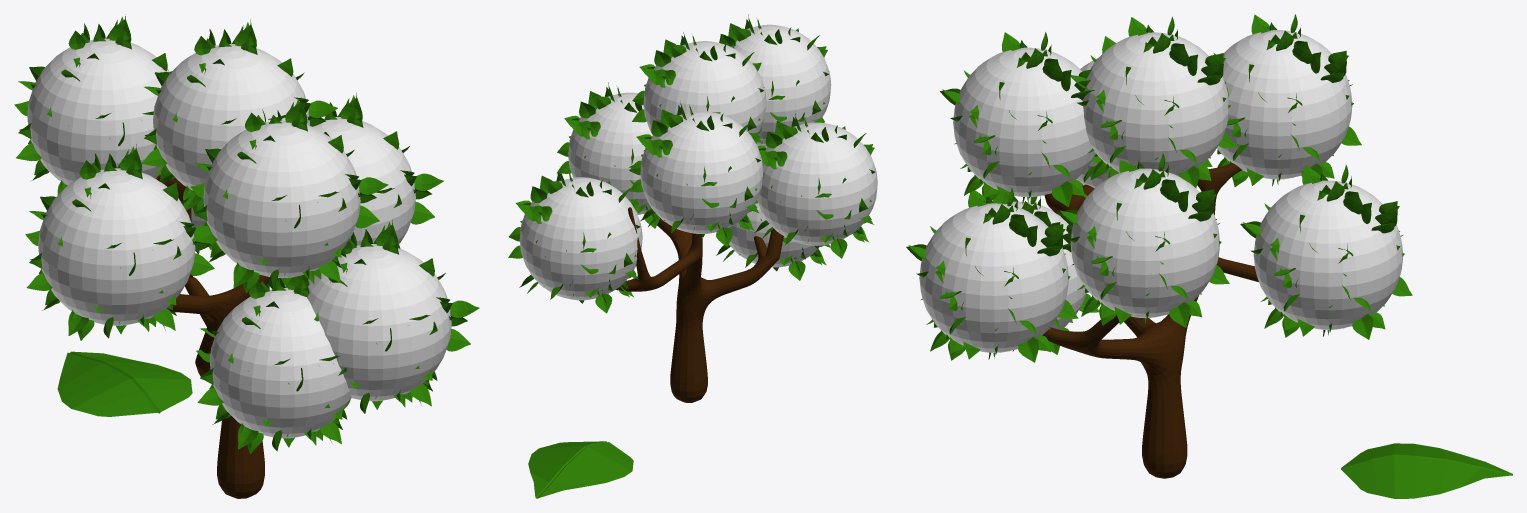
Rendered from tree.fbx.
3 views of the same model, side by side, from view 1: azimuth 30°, elevation 25°; view 2: azimuth 150°, elevation 25°; view 3: azimuth 270°, elevation 25° (orthographic). The views are drawn at different scales.
Parts seen in each view (by area): view 1: Sphere.001, Sphere.006, Sphere.003, Sphere.007, Sphere.002, Sphere.005, Plane.002, Plane, Sphere.004; view 2: Sphere.002, Sphere, Sphere.001, Plane, Sphere.005, Sphere.006, Sphere.004, Plane.002, Sphere.007; view 3: Sphere.003, Sphere.004, Sphere, Sphere.006, Sphere.005, Sphere.002, Plane, Plane.002, Sphere.007.
Part boxes in pixels (left/top/right/bottom): Sphere.001: left=38, top=168, right=195, bottom=325; Sphere.006: left=203, top=120, right=360, bottom=277; Sphere.003: left=307, top=244, right=451, bottom=401; Sphere.007: left=209, top=288, right=351, bottom=438; Sphere.002: left=27, top=38, right=169, bottom=185; Sphere.005: left=153, top=44, right=309, bottom=190; Plane.002: left=57, top=351, right=192, bottom=416; Plane: left=156, top=175, right=269, bottom=498; Sphere.004: left=313, top=117, right=415, bottom=245; Sphere.002: left=640, top=111, right=763, bottom=233; Sphere: left=519, top=177, right=642, bottom=300; Sphere.001: left=757, top=122, right=877, bottom=245; Plane: left=615, top=207, right=783, bottom=402; Sphere.005: left=643, top=41, right=766, bottom=133; Sphere.006: left=734, top=24, right=831, bottom=147; Sphere.004: left=568, top=92, right=652, bottom=214; Plane.002: left=528, top=441, right=633, bottom=498; Sphere.007: left=729, top=203, right=820, bottom=267; Sphere.003: left=919, top=203, right=1068, bottom=352; Sphere.004: left=1070, top=168, right=1219, bottom=317; Sphere: left=1253, top=180, right=1403, bottom=329; Sphere.006: left=953, top=47, right=1095, bottom=197; Sphere.005: left=1082, top=32, right=1229, bottom=176; Sphere.002: left=1217, top=30, right=1352, bottom=179; Plane: left=1042, top=163, right=1258, bottom=478; Plane.002: left=1341, top=443, right=1512, bottom=498; Sphere.007: left=1006, top=201, right=1086, bottom=329.
Bounding box in the file's own units: 576 × 659 × 811.
